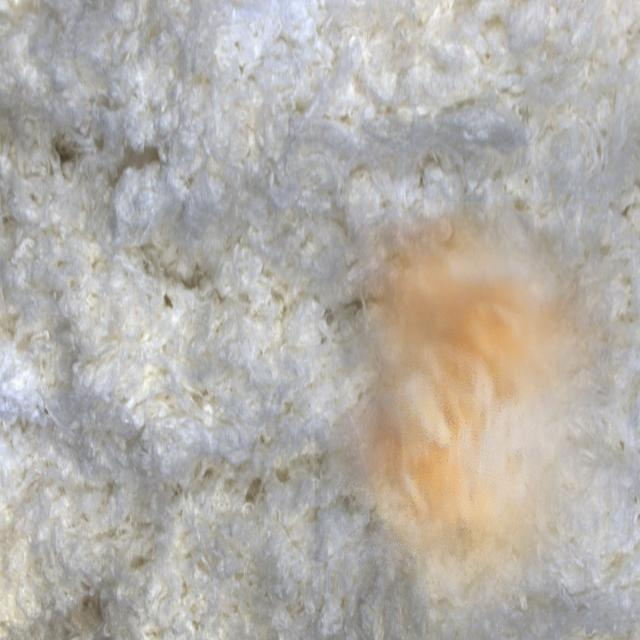dust: (315, 202, 628, 640)
